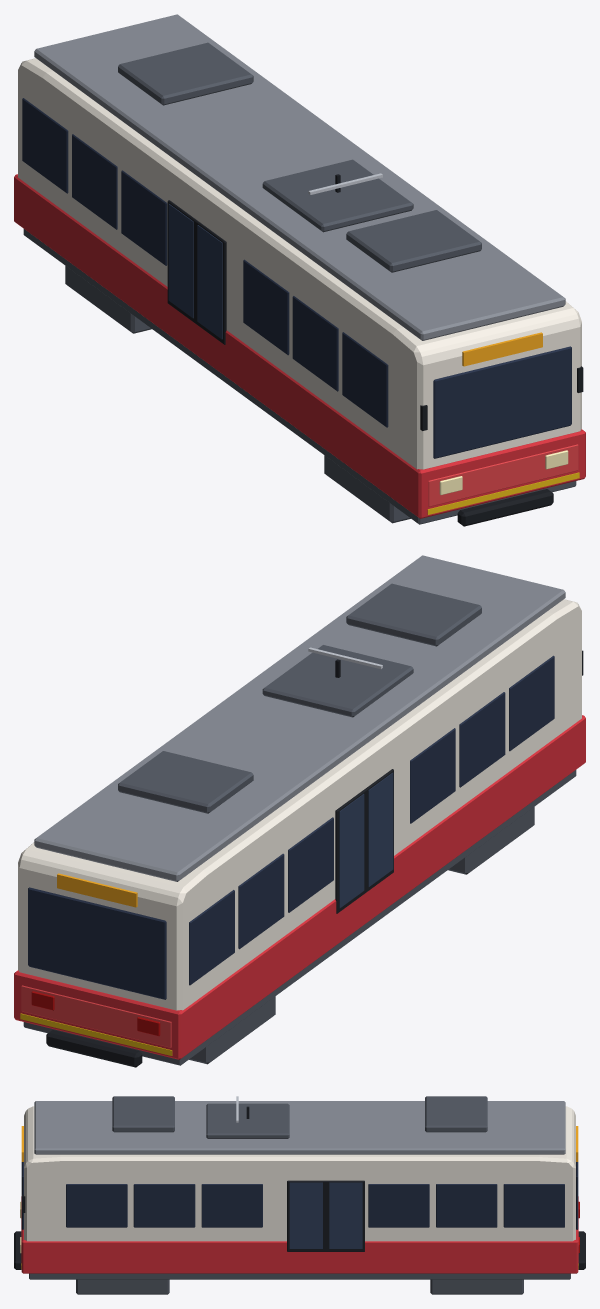
The model's file is tram.glb.
3 renders of one model, top to bottom at view 1: azimuth 30°, elevation 25°; view 2: azimuth 150°, elevation 25°; view 3: azimuth 270°, elevation 25°, orthographic. The views are drawn at different scales.
Parts seen in each view (by area): view 1: tram; view 2: tram; view 3: tram.
Boxes of the visible parts, <box> form: tram: <box>14,14,585,526</box>; tram: <box>14,555,585,1067</box>; tram: <box>14,1096,585,1294</box>.
Bounding box in the file's own units: 2.6 × 3.49 × 10.98.
